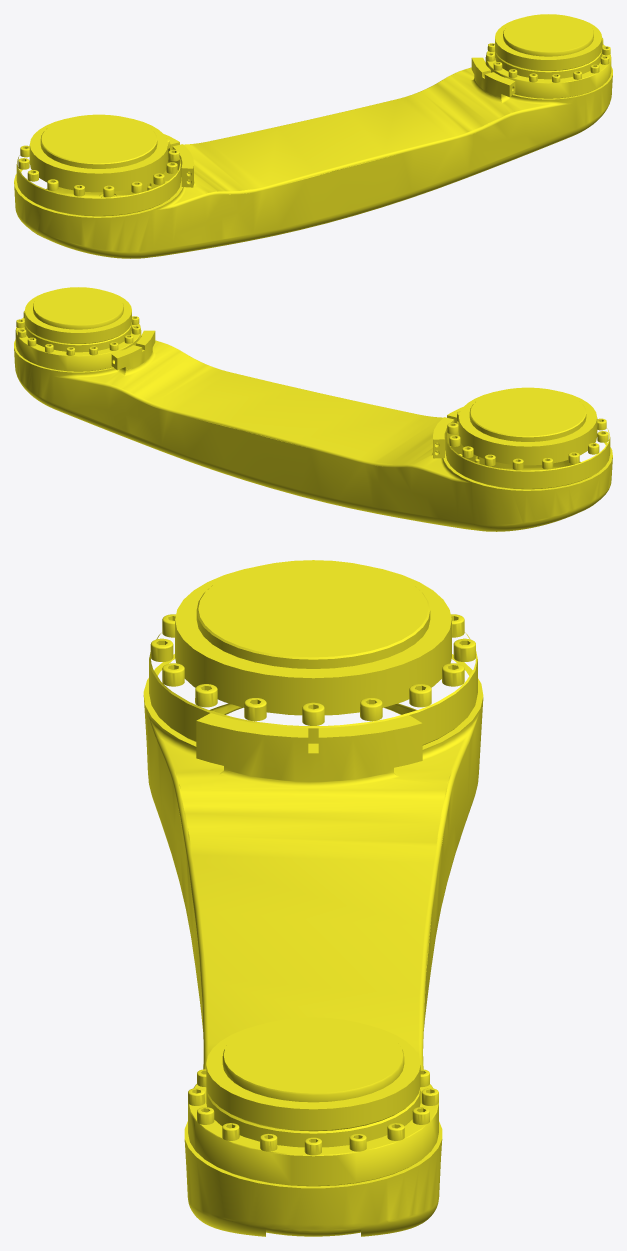
3 views of the same model, one above another, from view 1: azimuth 30°, elevation 25°; view 2: azimuth 150°, elevation 25°; view 3: azimuth 270°, elevation 25° (orthographic). The views are drawn at different scales.
Visible parts, largest first — view 1: /Link2/Link2_003-mesh/0; view 2: /Link2/Link2_003-mesh/0; view 3: /Link2/Link2_003-mesh/0.
Boxes of the visible parts, x1,y1,x2,y2 form: /Link2/Link2_003-mesh/0: (14,14,612,258); /Link2/Link2_003-mesh/0: (14,287,612,531); /Link2/Link2_003-mesh/0: (143,560,483,1236).
Bounding box in the file's own units: 0.7727 × 0.15 × 0.1964.
